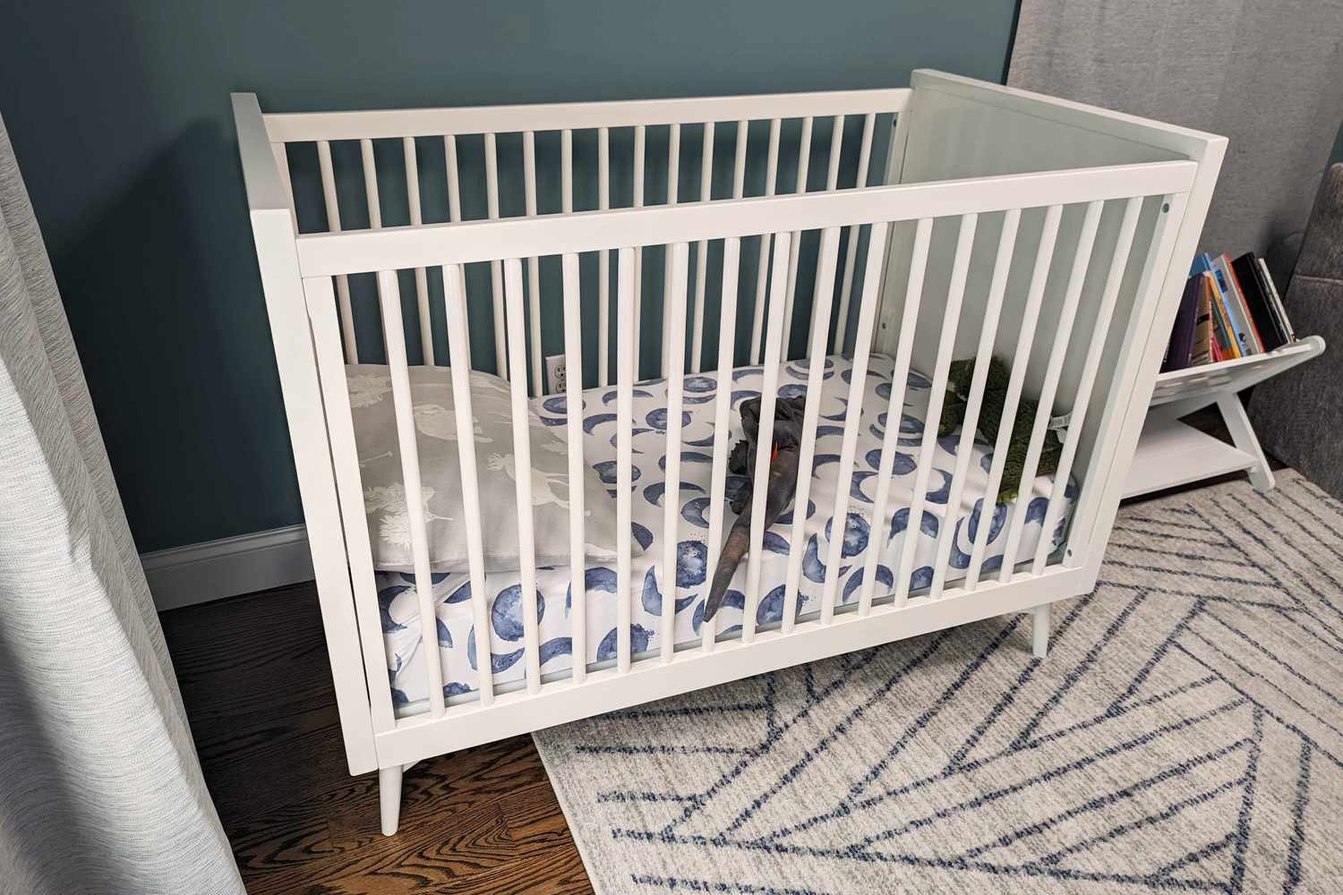crib: (234, 71, 1224, 832)
